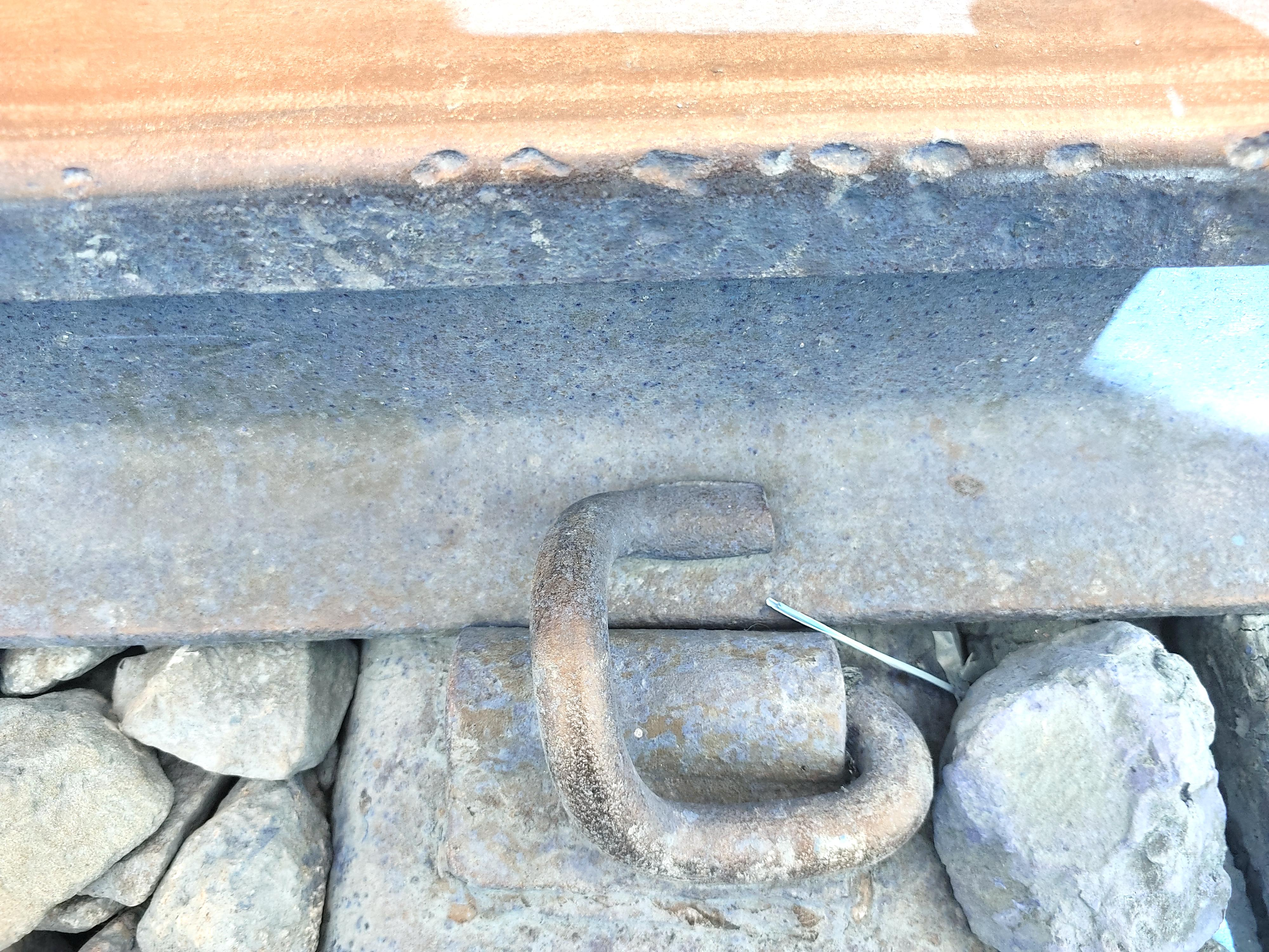Poor contact: (440, 457, 920, 880)
